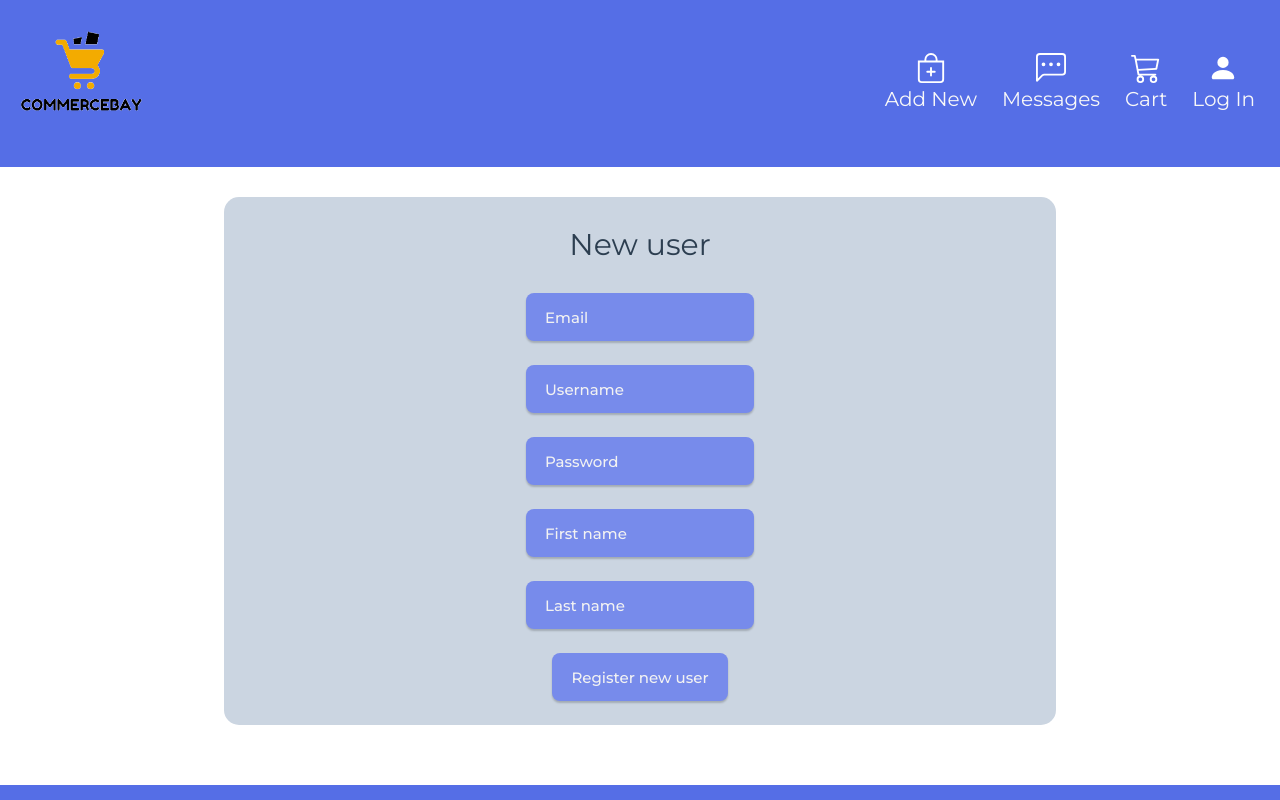
Scenario: New User Registration › shows an error message when input fields are empty
What coordinates should you click on to do the following:
click the button "Register new user"
I would click on:
 (640, 677)
Its box is [552, 653, 727, 701].
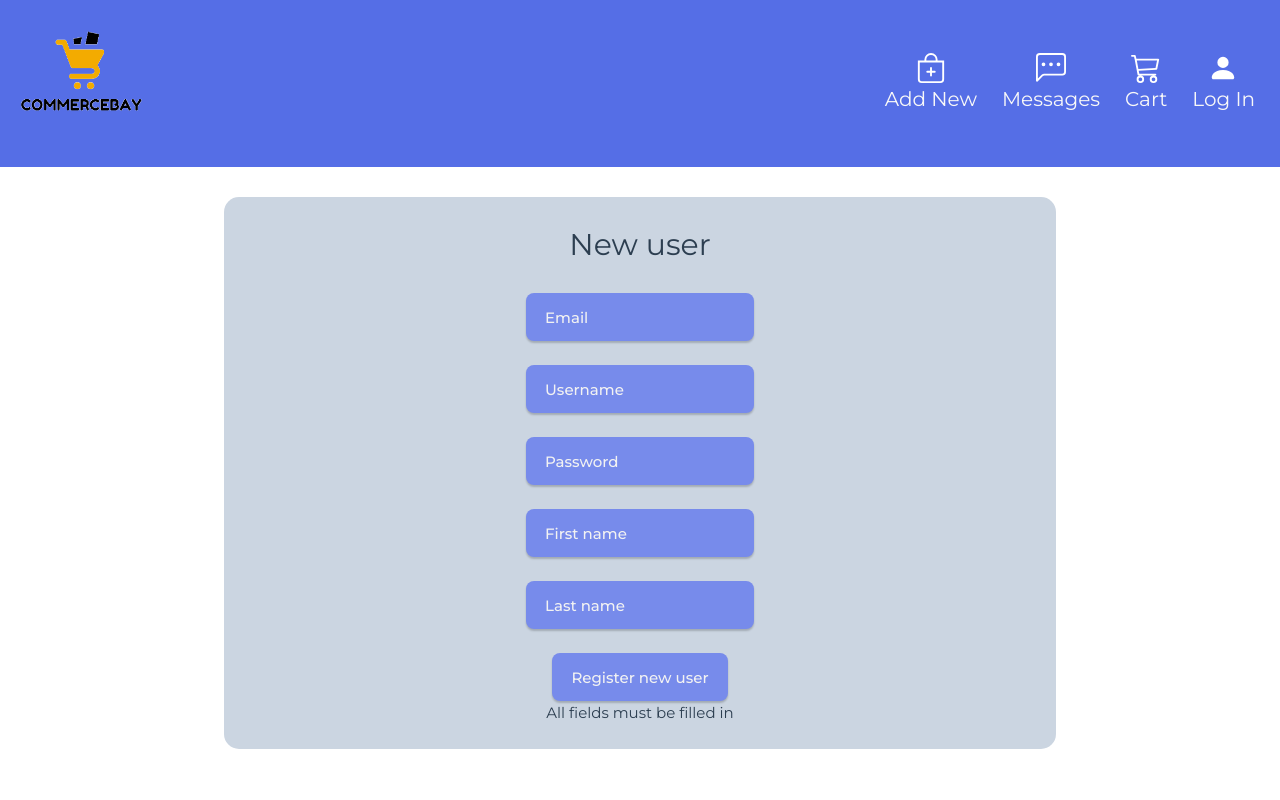
Expected: the text "All fields must be filled in" is shown, [546, 701, 734, 725]
